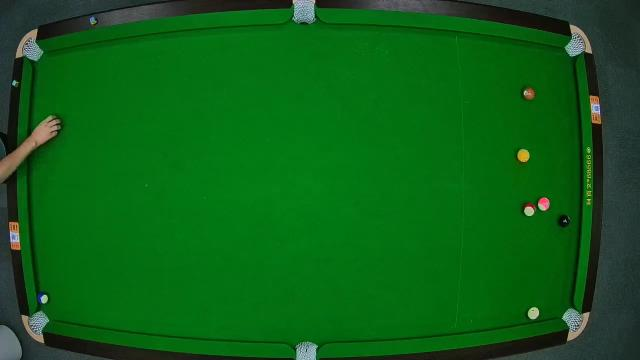bag1: (19, 38, 45, 62)
bag2: (291, 0, 317, 26)
bag3: (566, 29, 588, 57)
bag4: (29, 310, 49, 334)
bag5: (294, 340, 320, 360)
bag6: (563, 308, 585, 332)
ball0: (526, 304, 540, 320)
ball1: (516, 148, 530, 162)
ball10: (36, 292, 50, 306)
ball11: (522, 202, 536, 218)
ball12: (536, 197, 552, 212)
ball7: (523, 85, 535, 99)
ball8: (556, 214, 572, 229)
